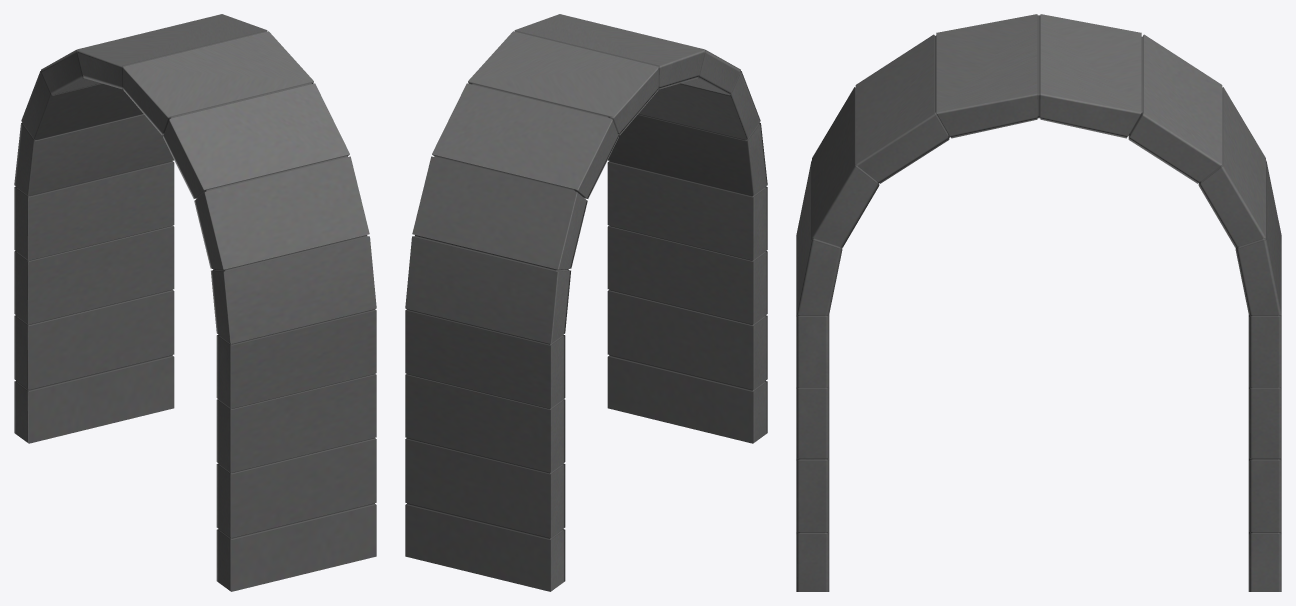
Rendered from Arch.fbx.
The picture shows the model from 3 angles, left to right: view 1: azimuth 30°, elevation 25°; view 2: azimuth 150°, elevation 25°; view 3: azimuth 270°, elevation 25°; orthographic projection. The views are drawn at different scales.
Visible parts, largest first — view 1: Arch; view 2: Arch; view 3: Arch.
Boxes of the visible parts, bbox=[...] form: Arch: bbox=[14, 14, 376, 591]; Arch: bbox=[405, 14, 767, 591]; Arch: bbox=[796, 14, 1281, 591].
Bounding box in the file's own units: 81.09 × 238 × 210.
